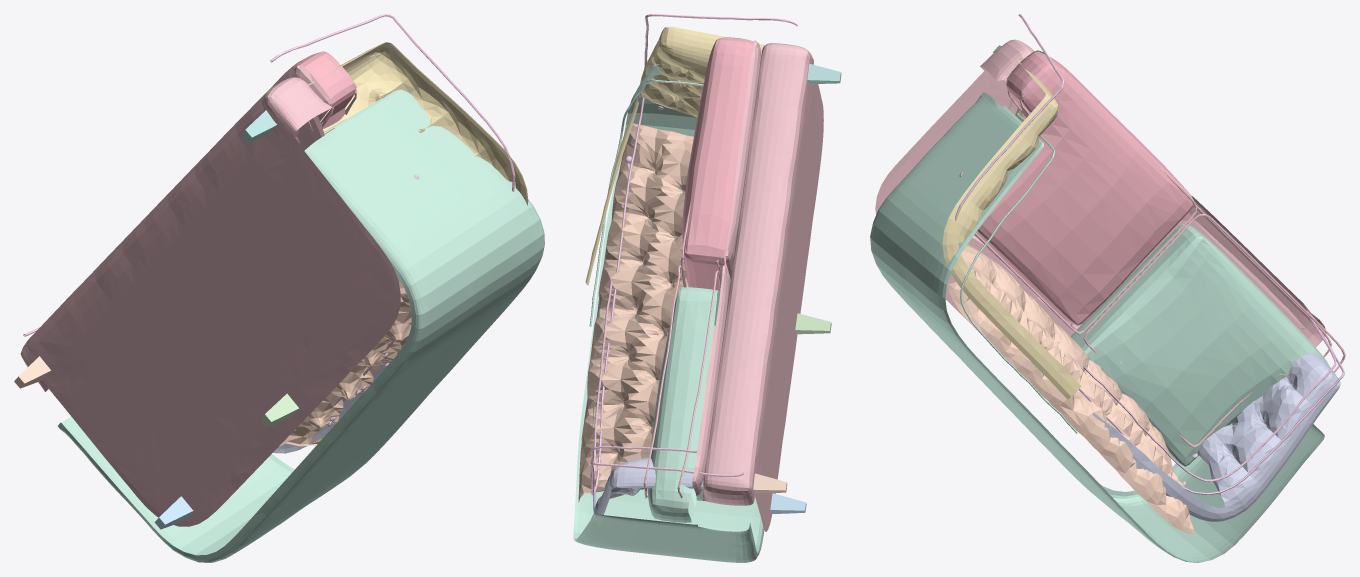
File: view_assembly_9_colored.glb
3 views of the same model, side by side, from view 1: azimuth 30°, elevation 25°; view 2: azimuth 150°, elevation 25°; view 3: azimuth 270°, elevation 25° (orthographic). The views are drawn at different scales.
Parts seen in each view (by area): view 1: world; view 2: world; view 3: world.
Boxes of the visible parts, x1=… form: world: x1=14, y1=14, x2=544, y2=562; world: x1=573, y1=14, x2=841, y2=562; world: x1=870, y1=14, x2=1345, y2=562.
Bounding box in the file's own units: 0.7262 × 1.07 × 0.9226.
